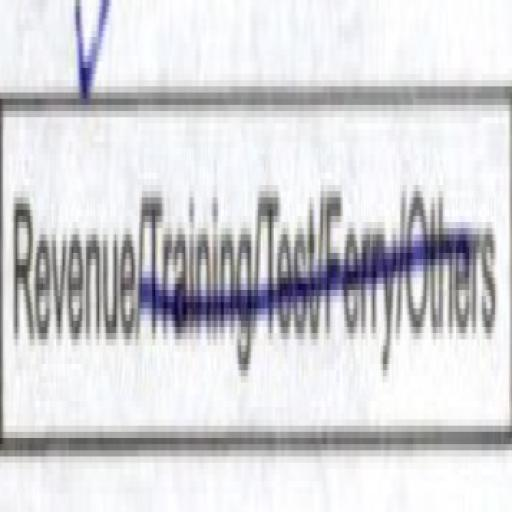check: (0, 0, 135, 456)
